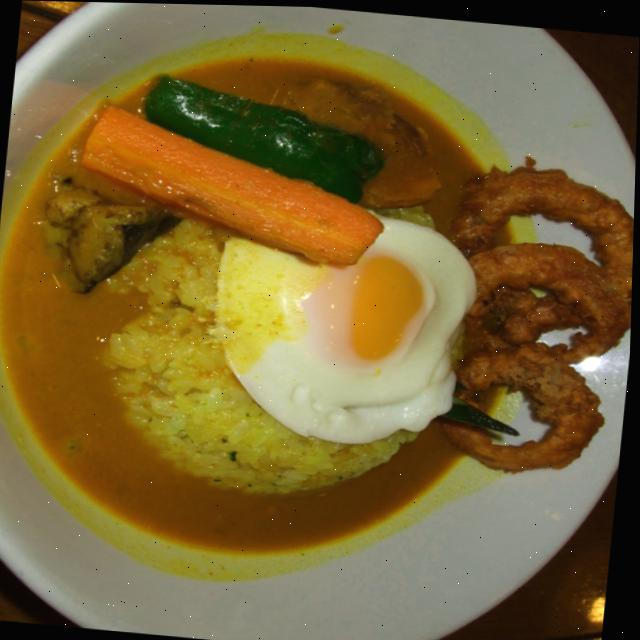鸡蛋料理: (225, 197, 494, 451)
